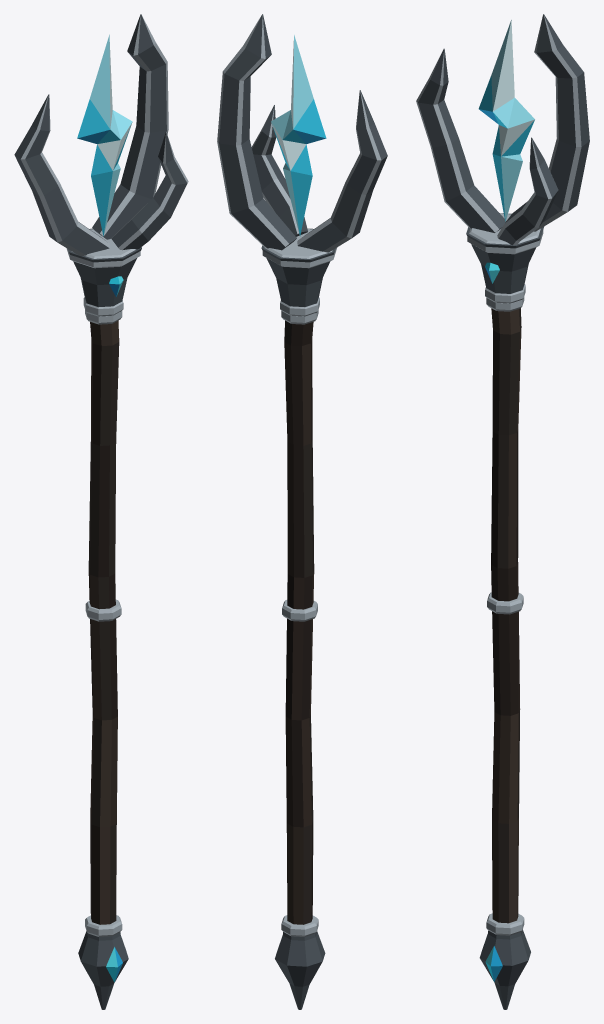
The model's file is LightningStaff.fbx.
The picture shows the model from 3 angles, left to right: view 1: azimuth 30°, elevation 25°; view 2: azimuth 150°, elevation 25°; view 3: azimuth 330°, elevation 25°; orthographic projection.
Parts seen in each view (by area): view 1: Black_Wood_Shaft, Metal_Prong_Tall, Metal_Prong_Left, Lightning_Crystal, Metal_Prong_Front, Butt_Cap, Neck_Socket, Crown_Rim, Butt_Rim, Central_Band; view 2: Black_Wood_Shaft, Metal_Prong_Tall, Metal_Prong_Left, Lightning_Crystal, Metal_Prong_Front, Butt_Cap, Neck_Socket, Crown_Rim, Butt_Rim, Central_Band; view 3: Black_Wood_Shaft, Metal_Prong_Tall, Metal_Prong_Left, Lightning_Crystal, Metal_Prong_Front, Neck_Socket, Butt_Cap, Crown_Rim, Butt_Rim, Central_Band, Neck_Ring_2.
Part boxes in pixels (bbox=[...]): Black_Wood_Shaft: bbox=[88, 320, 119, 924]; Metal_Prong_Tall: bbox=[92, 14, 168, 239]; Metal_Prong_Left: bbox=[14, 94, 109, 255]; Lightning_Crystal: bbox=[77, 34, 132, 236]; Metal_Prong_Front: bbox=[111, 132, 188, 250]; Butt_Cap: bbox=[78, 931, 128, 1009]; Neck_Socket: bbox=[68, 228, 141, 307]; Crown_Rim: bbox=[66, 229, 140, 268]; Butt_Rim: bbox=[85, 915, 122, 936]; Central_Band: bbox=[85, 599, 121, 621]; Black_Wood_Shaft: bbox=[284, 320, 314, 924]; Metal_Prong_Tall: bbox=[217, 14, 296, 250]; Metal_Prong_Left: bbox=[297, 90, 387, 252]; Lightning_Crystal: bbox=[271, 35, 326, 236]; Metal_Prong_Front: bbox=[251, 105, 307, 236]; Butt_Cap: bbox=[275, 931, 325, 1009]; Neck_Socket: bbox=[261, 228, 335, 306]; Crown_Rim: bbox=[262, 229, 337, 268]; Butt_Rim: bbox=[281, 915, 318, 936]; Central_Band: bbox=[282, 600, 317, 621]; Black_Wood_Shaft: bbox=[491, 308, 521, 923]; Metal_Prong_Tall: bbox=[534, 14, 589, 231]; Metal_Prong_Left: bbox=[416, 48, 506, 232]; Lightning_Crystal: bbox=[478, 19, 534, 221]; Metal_Prong_Front: bbox=[497, 137, 558, 245]; Neck_Socket: bbox=[466, 213, 543, 293]; Butt_Cap: bbox=[479, 929, 530, 1009]; Crown_Rim: bbox=[467, 213, 543, 254]; Butt_Rim: bbox=[486, 913, 524, 935]; Central_Band: bbox=[487, 592, 523, 614]; Neck_Ring_2: bbox=[485, 284, 525, 303].
Size of the model in its own units: 26.01 by 158 by 12.
